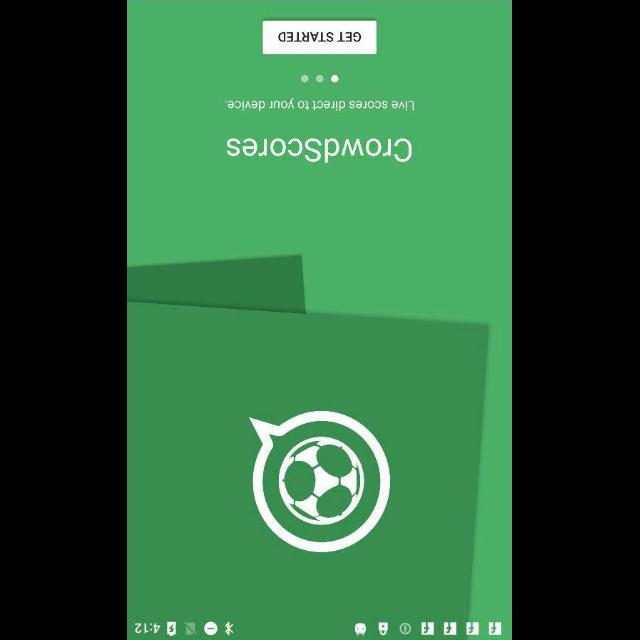image: (248, 411, 392, 552)
pageindicator: (300, 74, 340, 82)
text: (227, 137, 413, 163), (226, 98, 414, 112)
textbutton: (263, 20, 377, 54)
uppertaskbar: (128, 617, 512, 639)
